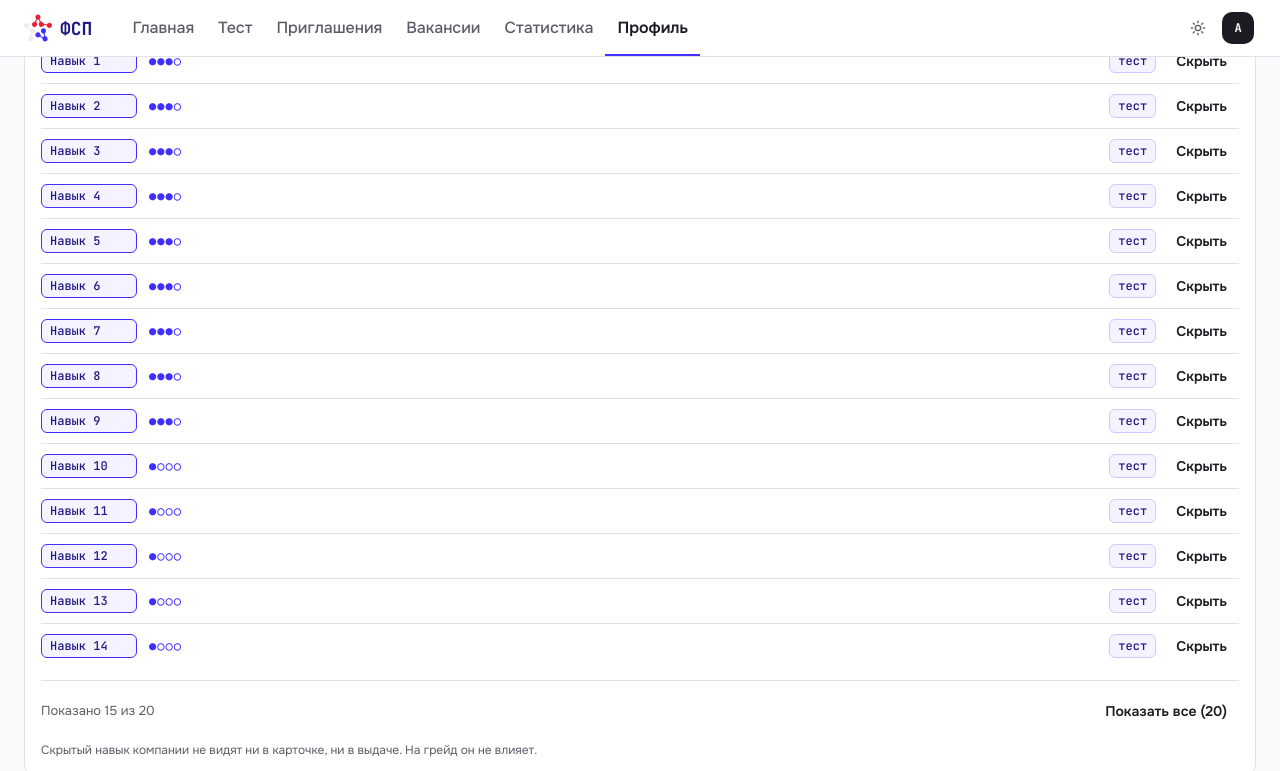
Test: навыки: по умолчанию 15, поиск, «подтверждено/заявлено», показать все
(page scrolled)
Expected: the text with test id "profile-skills-count" reads "Показано 15 из 20", [41,702,155,719]
Click the button with test id "profile-skills-all" at (1166, 711), box [1093,693,1239,729]
(page scrolled)
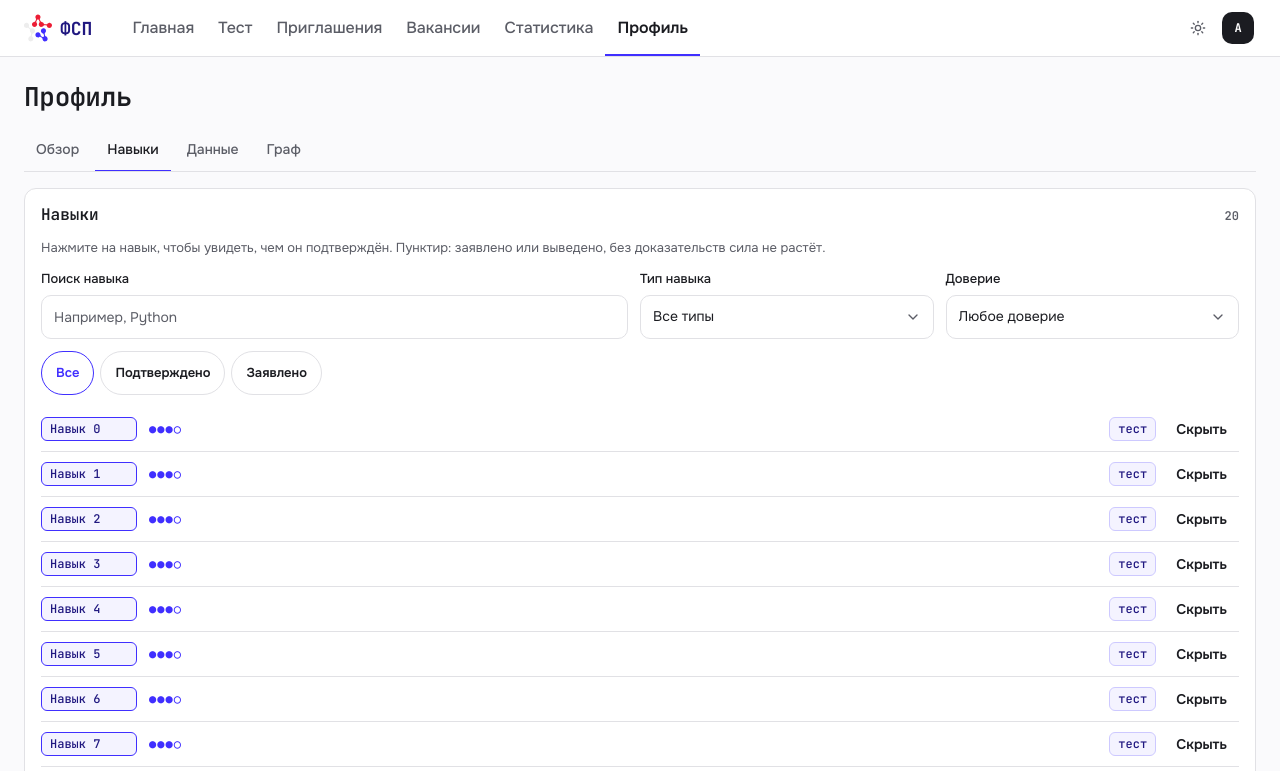
Result: the number of list items is 20
Click the button with test id "profile-skills-state-claimed" at (277, 373), box [231,351,322,395]
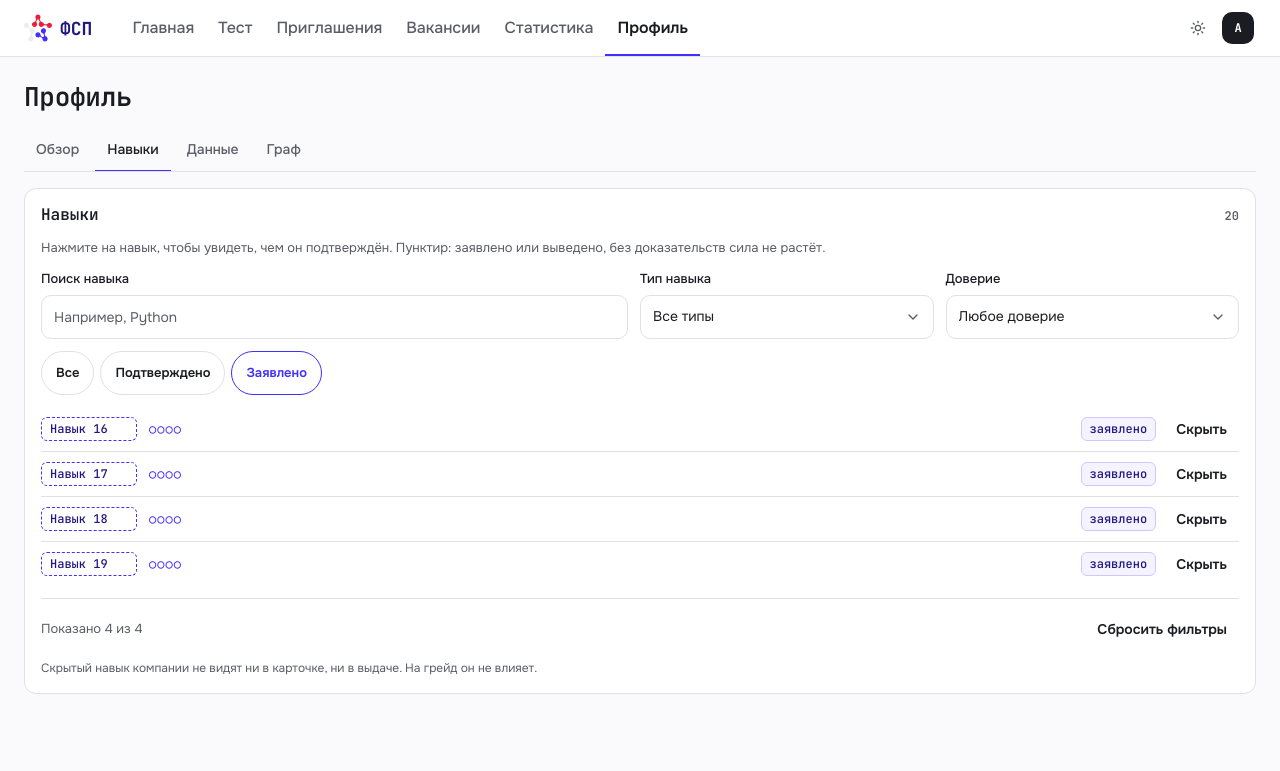
Result: the number of list items is 4 at [41,407,1239,451]; [41,451,1239,496]; [41,496,1239,541]; [41,541,1239,586]
Click the button with test id "profile-skills-state-all" at (68, 373), box [41,351,94,395]
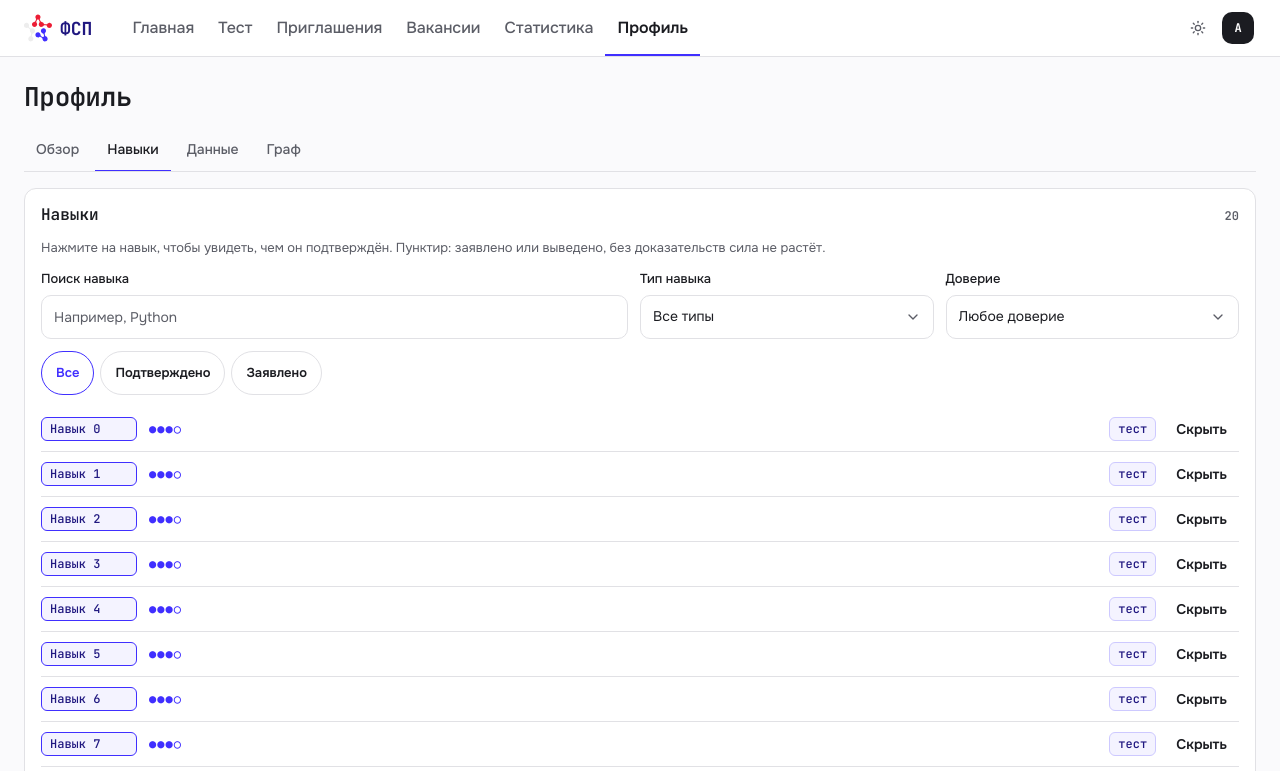
Type "навык 1" into the search field with test id "profile-skills-search" at (334, 317), box [41,295,628,339]
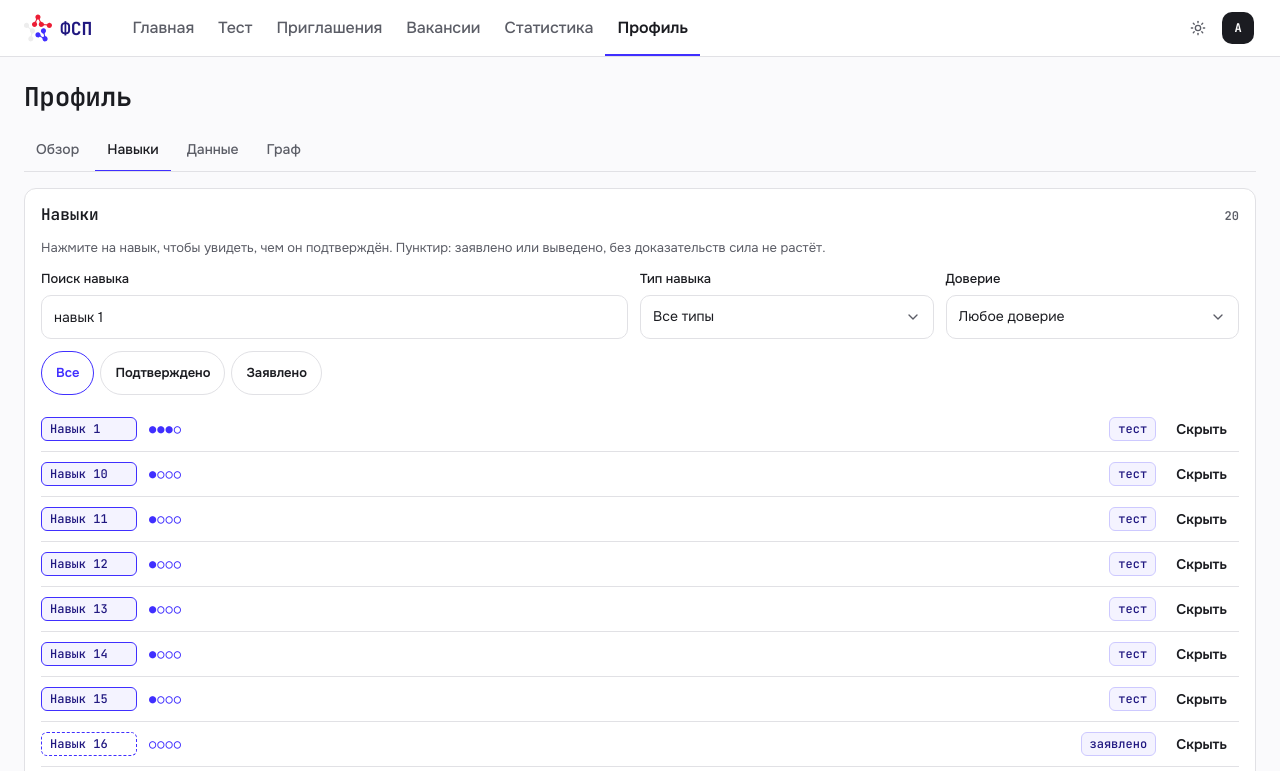
Result: the number of list items is 11
Replace the text in the search field with test id "profile-skills-search" with "нет такого" at (334, 317), box [41,295,628,339]
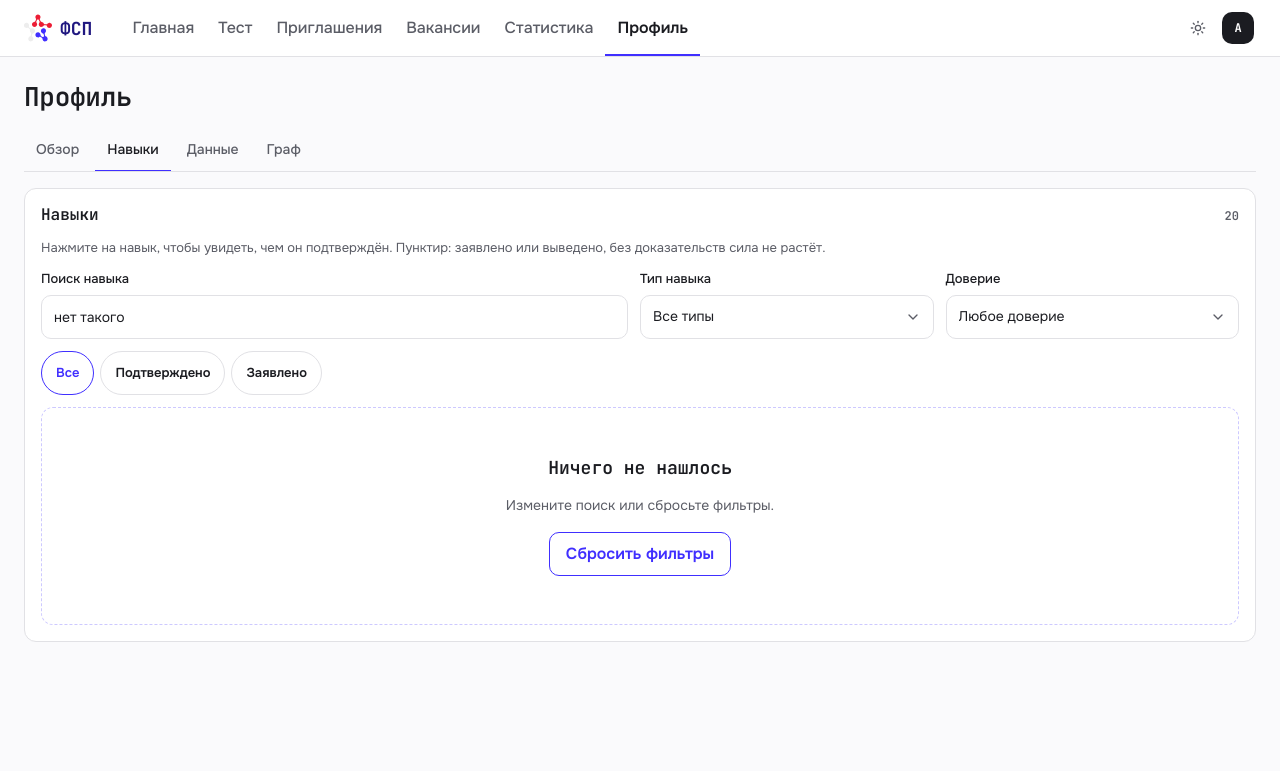
Result: the text "Ничего не нашлось" is shown at [548,456,732,479]
Click the button with test id "profile-skills-reset" at (640, 554), box [549,532,731,576]
(page scrolled)
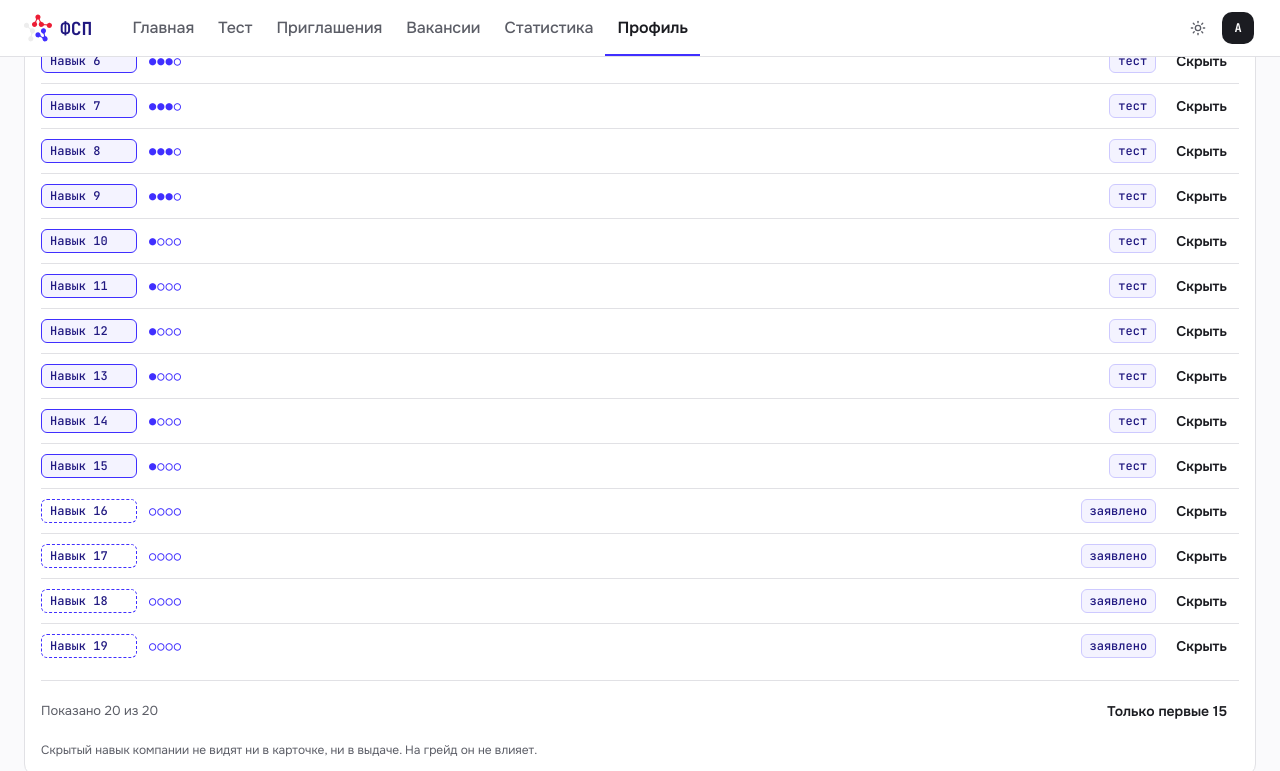
Result: the text with test id "profile-skills-count" reads "Показано 20 из 20" at [41,702,158,719]
